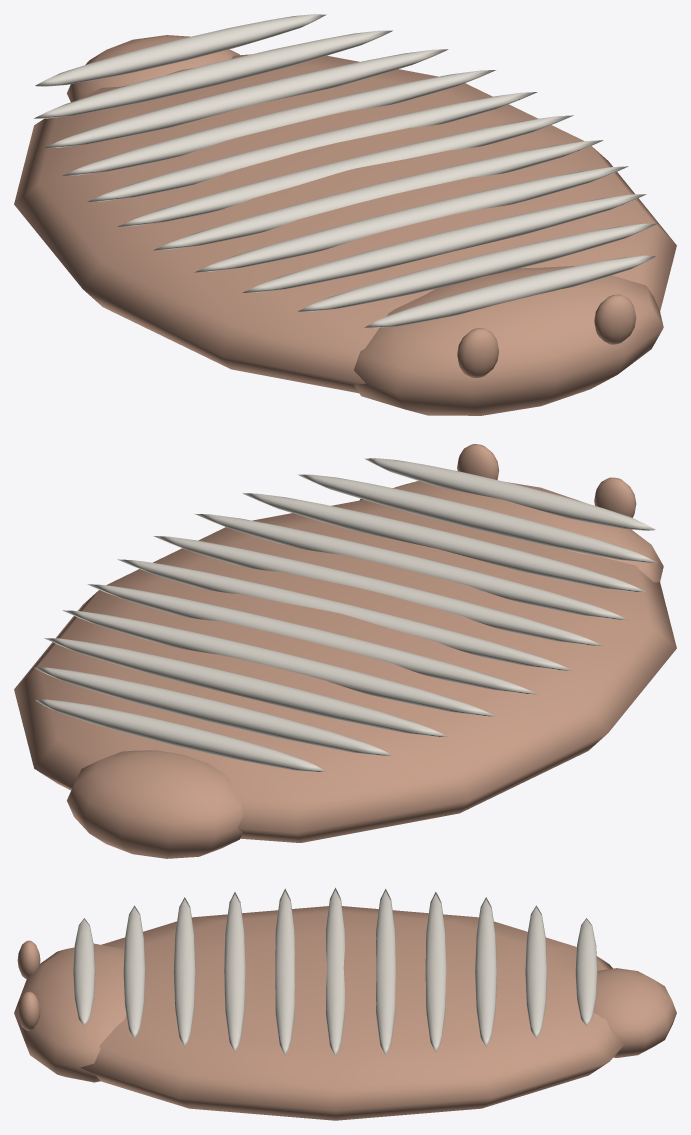
Rendered from org_dickinsonia.glb.
3 views of the same model, one above another, from view 1: azimuth 30°, elevation 25°; view 2: azimuth 150°, elevation 25°; view 3: azimuth 270°, elevation 25° (orthographic). The views are drawn at different scales.
Visible parts, largest first — view 1: Body, Head, Tail, Eye_R, Eye_L; view 2: Body, Tail, Head, Eye_R, Eye_L; view 3: Body, Head, Tail, Eye_L, Eye_R.
Boxes of the visible parts, <box> form: Body: <box>14,14,676,393</box>; Head: <box>354,266,663,415</box>; Tail: <box>67,35,239,102</box>; Eye_R: <box>457,328,499,377</box>; Eye_L: <box>594,294,636,344</box>; Body: <box>14,458,676,842</box>; Tail: <box>67,750,242,858</box>; Head: <box>359,481,663,582</box>; Eye_R: <box>594,477,636,517</box>; Eye_L: <box>457,444,499,479</box>; Body: <box>73,887,624,1120</box>; Head: <box>14,943,126,1082</box>; Tail: <box>593,968,676,1057</box>; Eye_L: <box>17,991,40,1030</box>; Eye_R: <box>17,940,40,979</box>.
Bounding box in the file's own units: 1.35 × 0.3 × 1.93.
